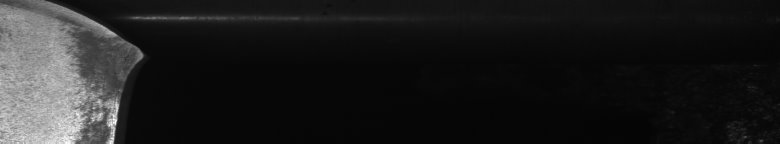kb: (57, 0, 141, 144)
